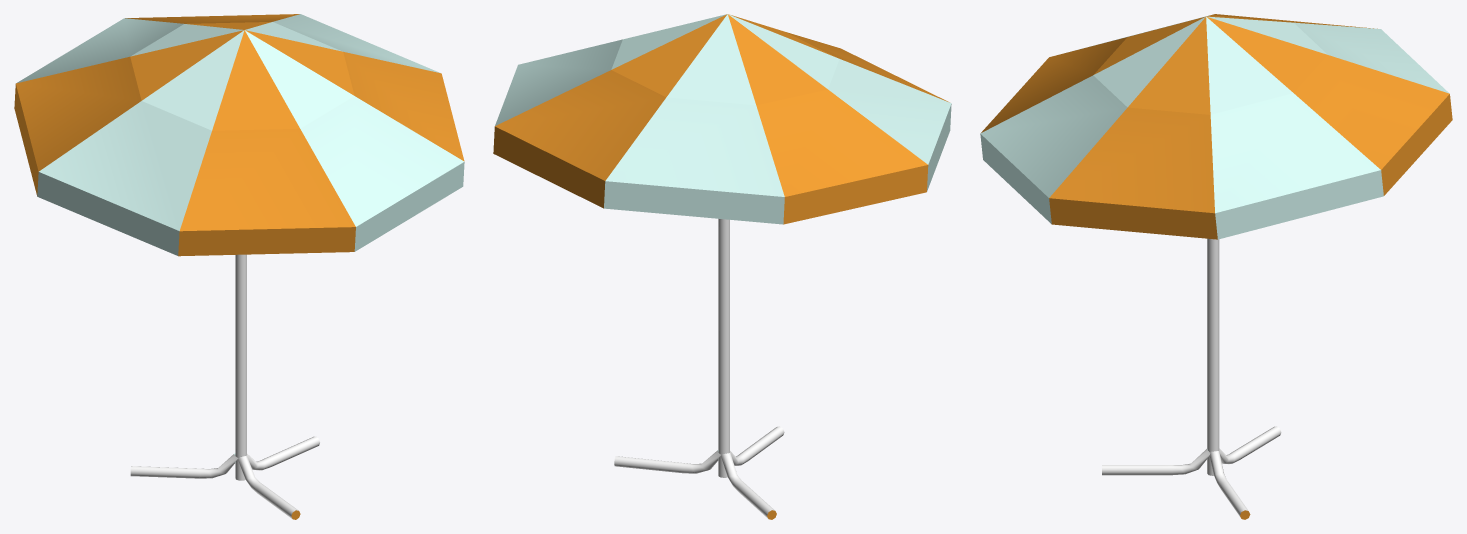
The model's file is Umbrella_whith_color_with_legs.FBX.
3 views of the same model, side by side, from view 1: azimuth 30°, elevation 25°; view 2: azimuth 150°, elevation 25°; view 3: azimuth 270°, elevation 25° (orthographic).
Visible parts, largest first — view 1: Cone, Cylinder001, Cylinder004, Cylinder002, Cylinder003; view 2: Cone, Cylinder001, Cylinder003, Cylinder004, Cylinder002; view 3: Cone, Cylinder001, Cylinder002, Cylinder003, Cylinder004.
Part boxes in pixels (x1,y1,x2,y2): Cone: [14, 14, 464, 256]; Cylinder001: [235, 254, 246, 480]; Cylinder004: [130, 453, 238, 478]; Cylinder002: [238, 455, 300, 519]; Cylinder003: [247, 436, 319, 470]; Cone: [493, 14, 951, 224]; Cylinder001: [718, 218, 729, 477]; Cylinder003: [614, 450, 720, 473]; Cylinder004: [721, 453, 776, 519]; Cylinder002: [730, 426, 784, 465]; Cone: [980, 14, 1452, 239]; Cylinder001: [1207, 238, 1219, 475]; Cylinder002: [1102, 449, 1210, 475]; Cylinder003: [1209, 451, 1250, 519]; Cylinder004: [1219, 426, 1281, 464].
Bounding box in the file's own units: 348 × 373 × 348.
